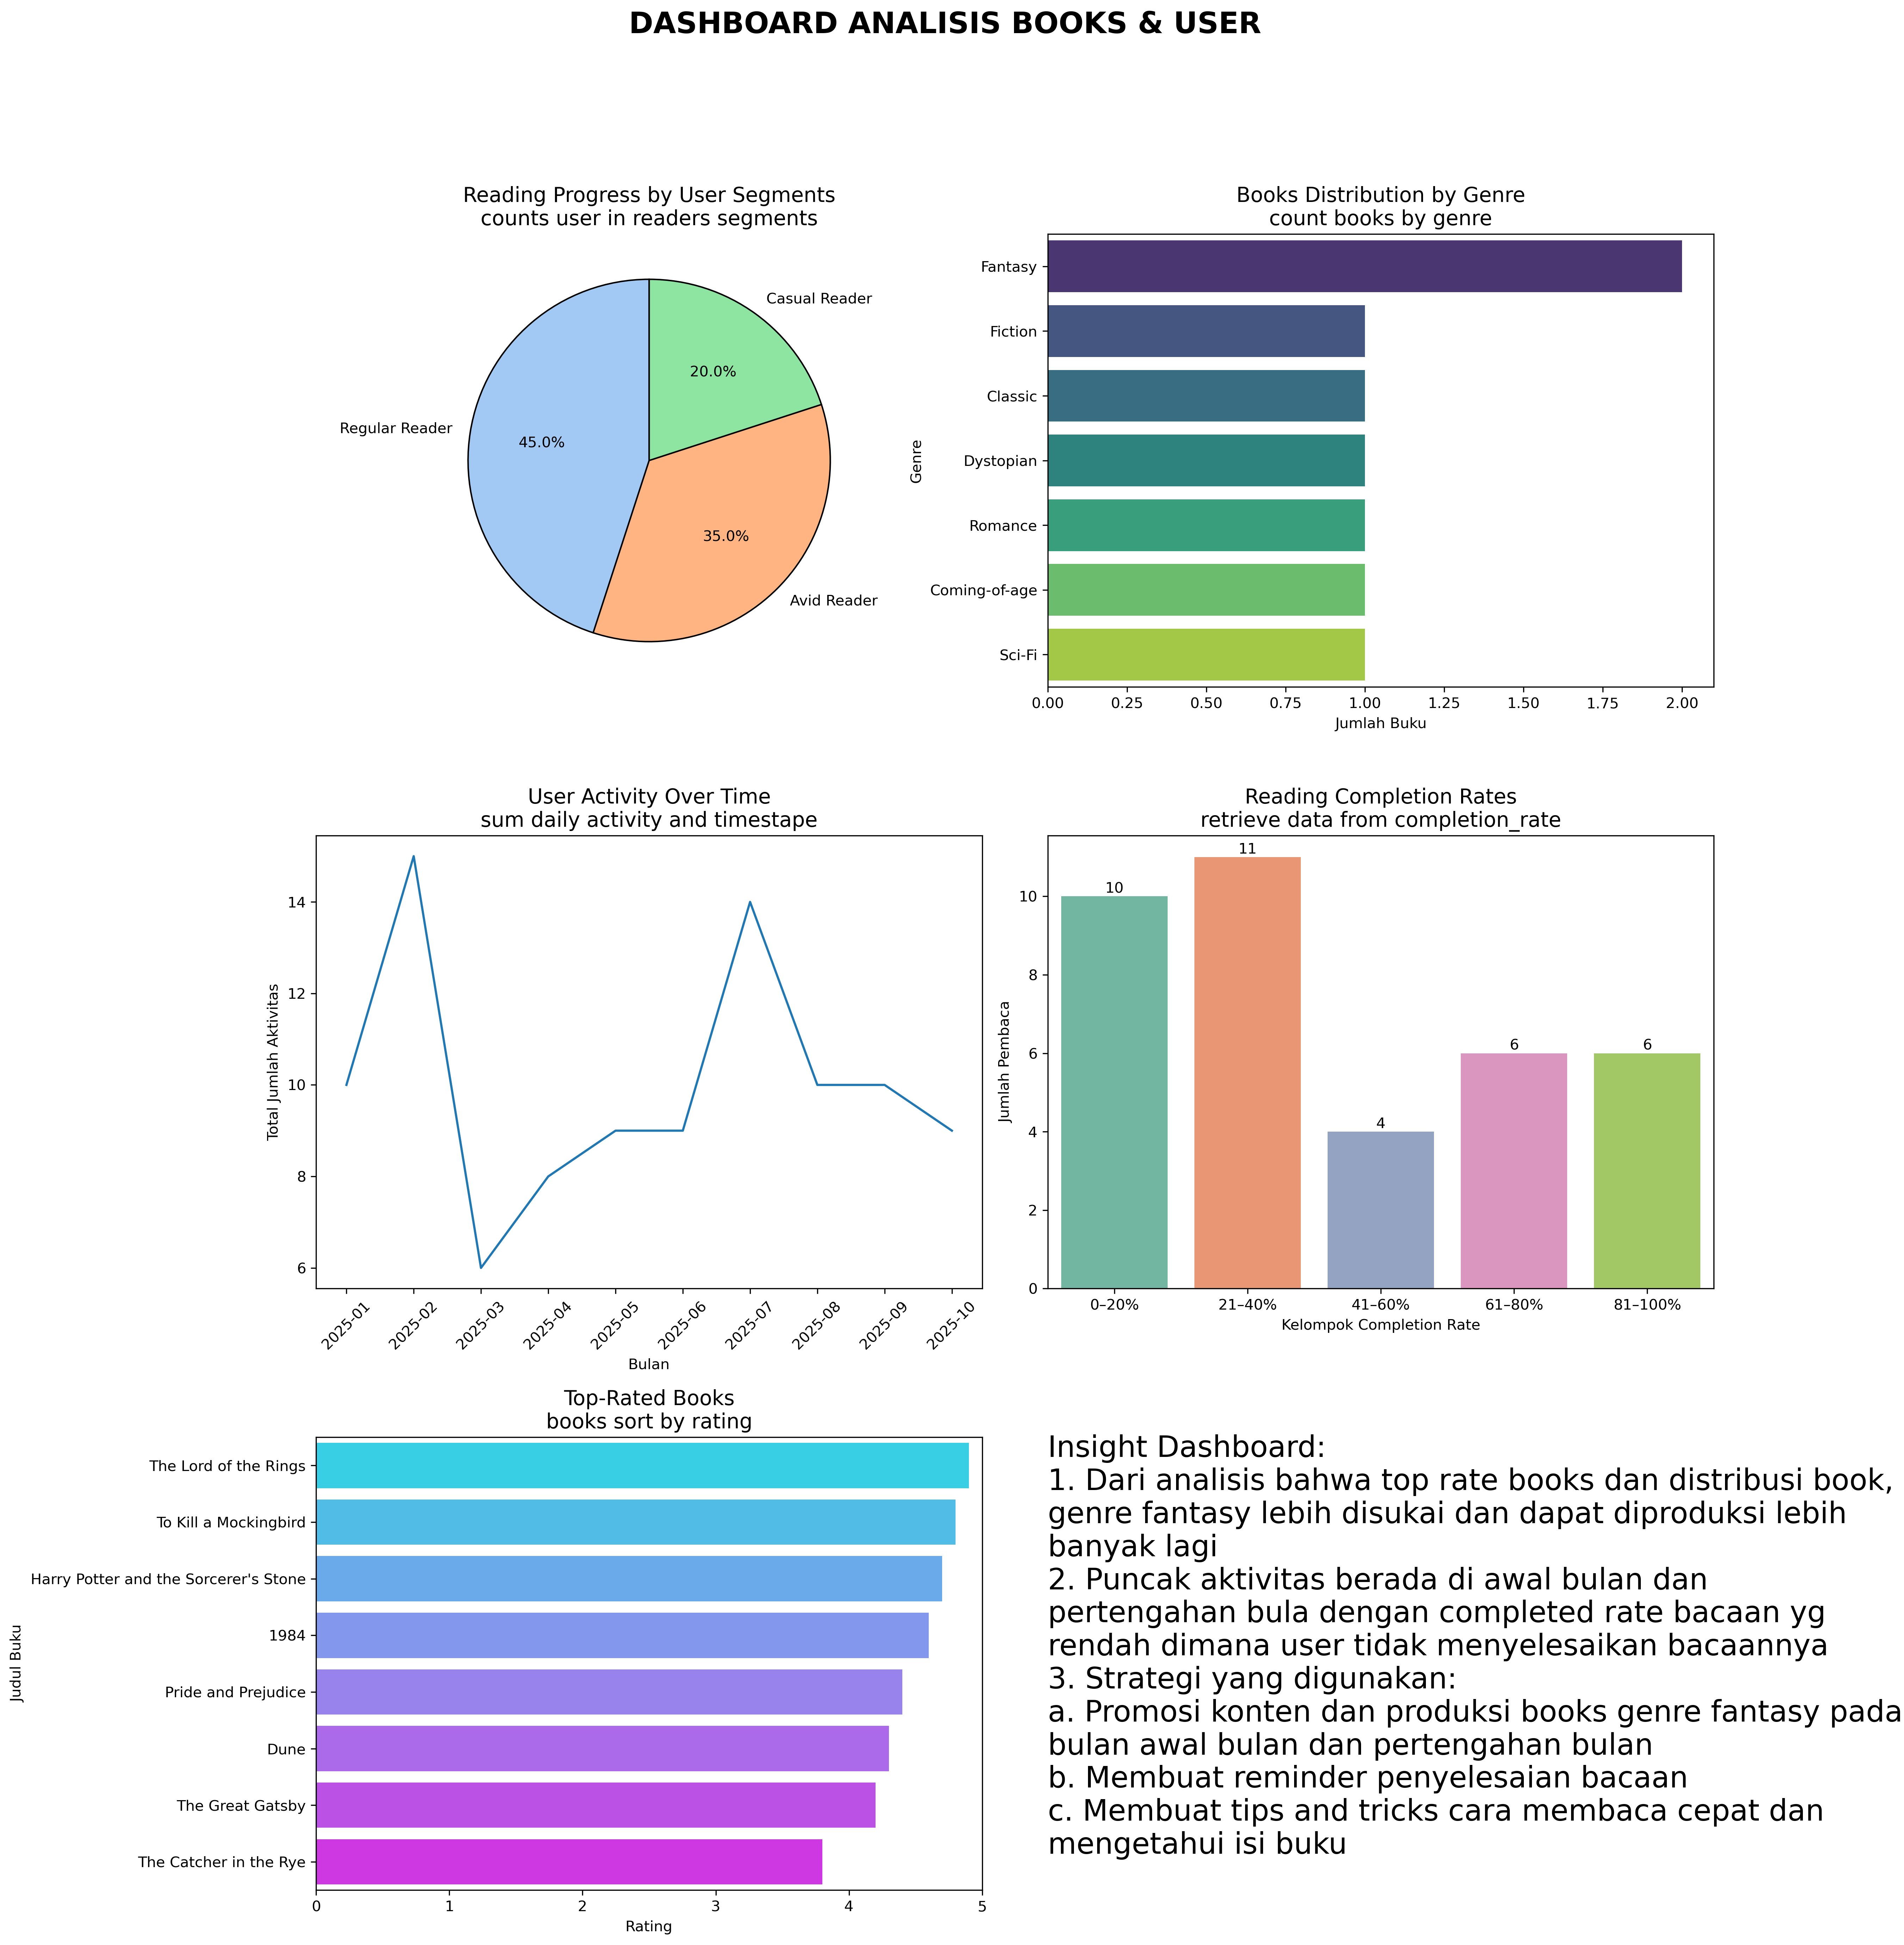

The page's visual inventory and layout, read from the dashboard file:
{"tool":"powerbi","page":{"name":"Page 1","canvas":[1280,720],"ordinal":0},"visuals":[{"type":"clusteredBarChart","title":"Reading completion rates","fields":{"Category":["Query1.title"],"Y":["Query1.Completion Rate"]},"box":[403.3,411.7,500,308.3],"z":0},{"type":"textbox","box":[0,0,1280,65],"z":1000},{"type":"pieChart","title":"Reading progress by user segment","fields":{"Category":["Query2.segment"],"Y":["Sum(Query2.completion_rate)"]},"box":[903.3,411.7,376.7,308.3],"z":2000},{"type":"tableEx","title":"TOP-RATED BOOKS","fields":{"Values":["Query3.title","Query3.rating"]},"box":[0,411.7,403.3,308.3],"z":3000},{"type":"lineChart","title":"User activity over time","fields":{"Category":["Query1.date.Variation.Date Hierarchy.Month"],"Y":["Count(Query1.user_id)"]},"box":[656.7,113.3,623.3,298.3],"z":5000},{"type":"slicer","fields":{"Values":["Query1.genre"]},"box":[0,53.3,158.3,235],"z":6000},{"type":"slicer","fields":{"Values":["Query1.action"]},"box":[0,288.3,158.3,123.3],"z":7000},{"type":"barChart","title":"Book distribution by genre","fields":{"Category":["Query1.genre"],"Y":["Query1.Reader"]},"box":[158.3,53.3,498.3,358.3],"z":10500},{"type":"slicer","title":"Filter by Date","fields":{"Values":["Query1.date"]},"box":[656.7,5,623.3,108.3],"z":13000}]}

Visuals, with their boxes on the page's 1280x720 design canvas (x1, y1, x2, y2). These are canvas units, not pixel positions in the 1904x1945 screenshot, which may show the page scaled, cropped or inside an application window:
"Reading completion rates" clusteredBarChart: [x1=403, y1=412, x2=903, y2=720]
textbox: [x1=0, y1=0, x2=1280, y2=65]
"Reading progress by user segment" pieChart: [x1=903, y1=412, x2=1280, y2=720]
"TOP-RATED BOOKS" tableEx: [x1=0, y1=412, x2=403, y2=720]
"User activity over time" lineChart: [x1=657, y1=113, x2=1280, y2=412]
slicer - Query1.genre: [x1=0, y1=53, x2=158, y2=288]
slicer - Query1.action: [x1=0, y1=288, x2=158, y2=412]
"Book distribution by genre" barChart: [x1=158, y1=53, x2=657, y2=412]
"Filter by Date" slicer: [x1=657, y1=5, x2=1280, y2=113]
